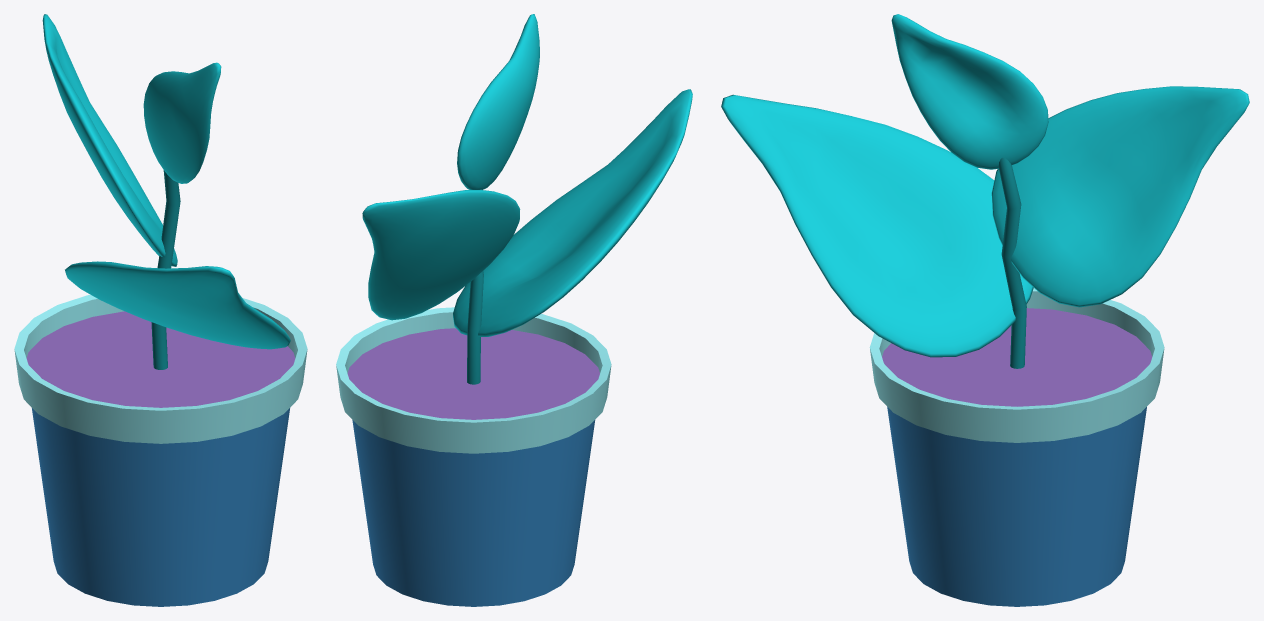
File: Investition_VTB_v2.fbx
3 views of the same model, side by side, from view 1: azimuth 30°, elevation 25°; view 2: azimuth 150°, elevation 25°; view 3: azimuth 270°, elevation 25° (orthographic). The views are drawn at different scales.
Parts seen in each view (by area): view 1: Cylinder.006, Cube.002, Cube.018, Cube.001, Cylinder.007; view 2: Cylinder.006, Cube.002, Cube.001, Cube.018, Cylinder.007; view 3: Cylinder.006, Cube.002, Cube.001, Cube.018, Cylinder.007.
Part boxes in pixels (left/top/right/bottom): Cylinder.006: left=14, top=294, right=307, bottom=606; Cube.002: left=65, top=261, right=290, bottom=349; Cube.018: left=143, top=62, right=221, bottom=183; Cube.001: left=42, top=14, right=177, bottom=266; Cylinder.007: left=151, top=170, right=180, bottom=369; Cylinder.006: left=336, top=307, right=611, bottom=606; Cube.002: left=453, top=89, right=692, bottom=336; Cube.001: left=362, top=190, right=520, bottom=320; Cube.018: left=457, top=14, right=539, bottom=189; Cylinder.007: left=467, top=189, right=483, bottom=384; Cylinder.006: left=869, top=288, right=1164, bottom=606; Cube.002: left=721, top=94, right=1033, bottom=357; Cube.001: left=991, top=86, right=1249, bottom=307; Cube.018: left=891, top=14, right=1048, bottom=169; Cylinder.007: left=998, top=157, right=1026, bottom=368.
Bounding box in the file's own units: 146 × 299 × 263.
